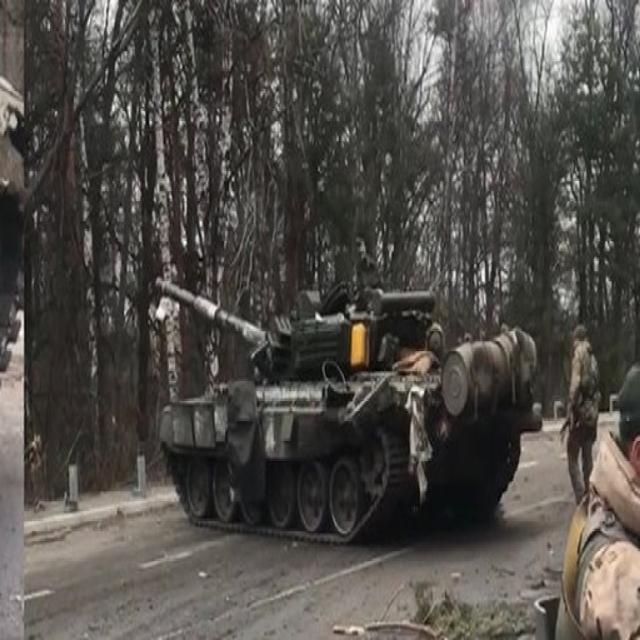TANK: (146, 242, 549, 564)
